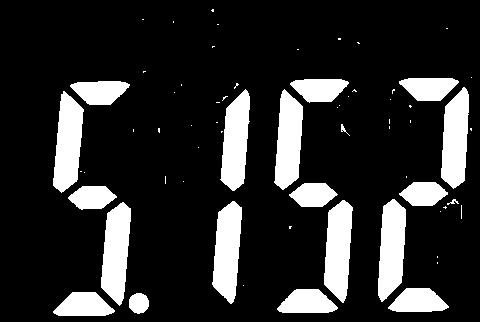1: (208, 85, 253, 308)
2: (373, 71, 473, 315)
5: (268, 76, 357, 315), (50, 78, 134, 316)
dot: (128, 291, 152, 315)
